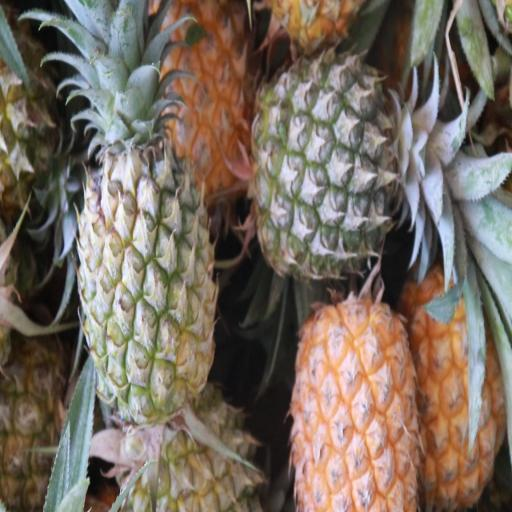Pineapple - v8 v1: (287, 309, 425, 512), (403, 280, 510, 512), (143, 0, 259, 200)
